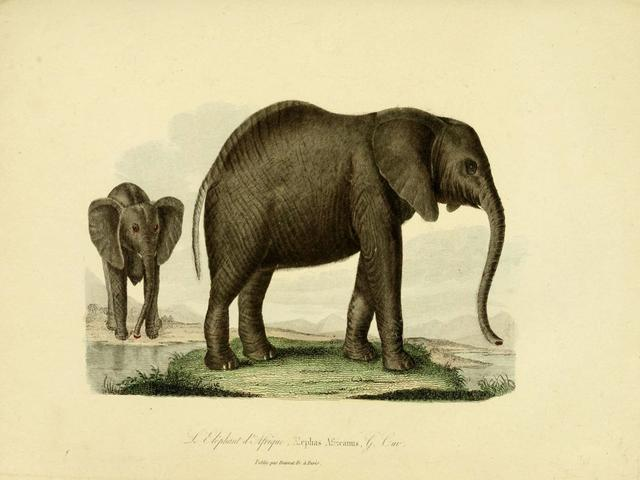elephant: (170, 58, 555, 378), (62, 138, 197, 393)
